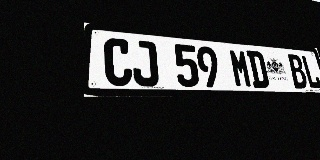5: (174, 44, 200, 87)
9: (196, 46, 221, 87)
B: (286, 54, 309, 88)
C: (104, 37, 133, 86)
D: (246, 50, 270, 88)
J: (131, 40, 159, 86)
L: (300, 55, 320, 89)
M: (228, 49, 253, 88)
